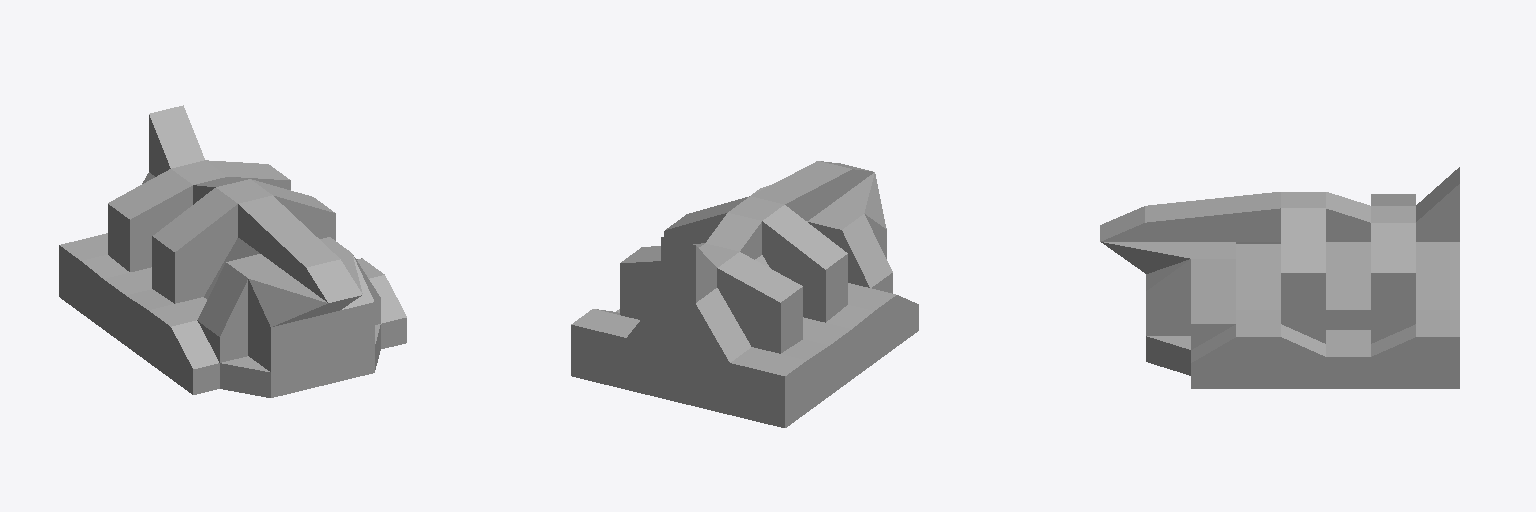
The model's file is VIPPPPPPP.obj.
3 renders of one model, left to right at view 1: azimuth 30°, elevation 25°; view 2: azimuth 150°, elevation 25°; view 3: azimuth 270°, elevation 25°, orthographic.
Size of the model in its own units: 53.59 by 38.63 by 77.82.